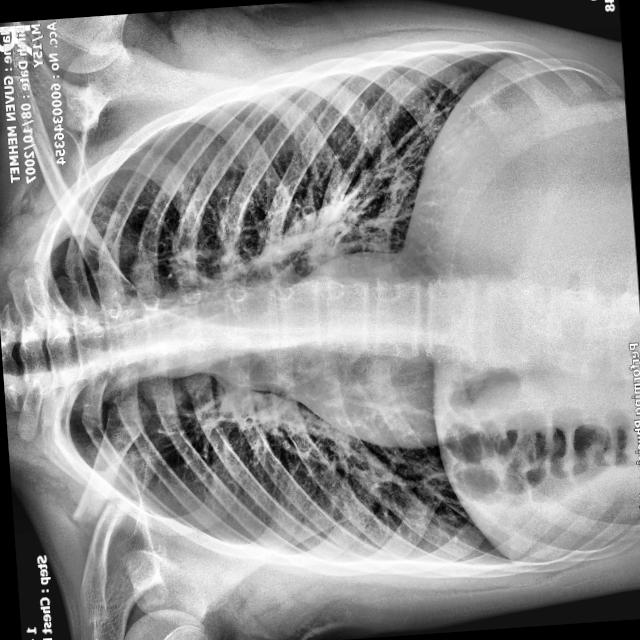Fracture: (56, 482, 142, 540)
